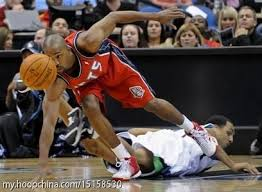10+: (1, 1, 262, 192)
down: (98, 111, 239, 181)
